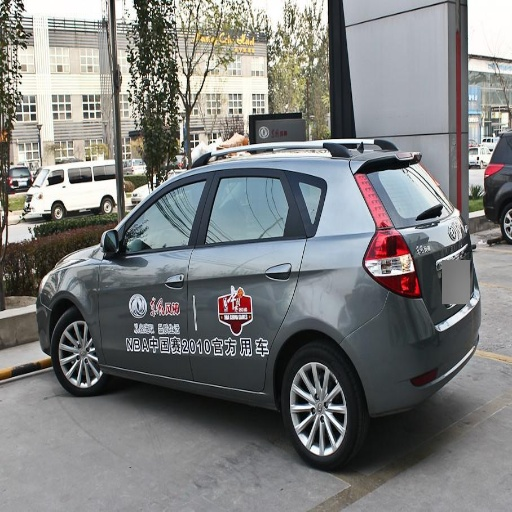back_bumper: (343, 287, 478, 417)
back_glass: (380, 179, 436, 219)
back_left_door: (188, 169, 307, 391)
